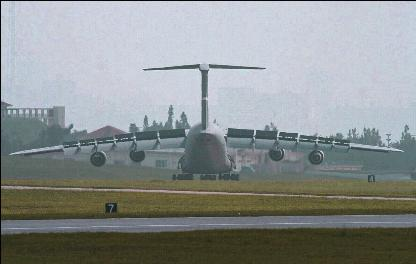C17: (7, 62, 403, 178)
